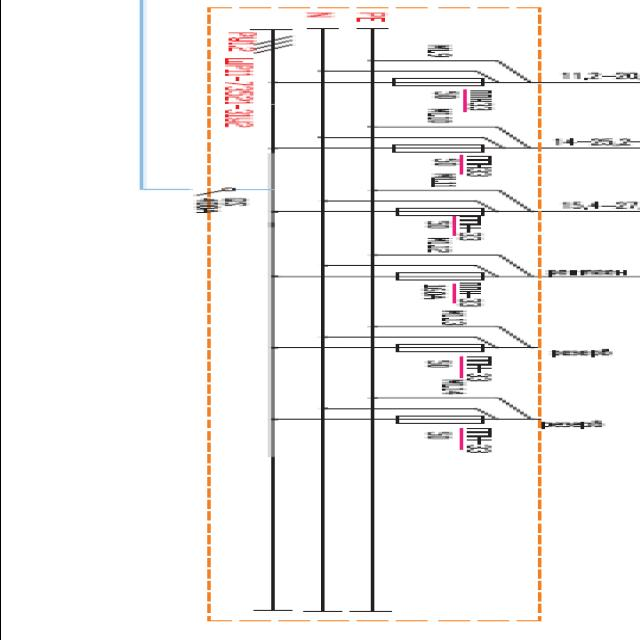-: (217, 55, 263, 130), (418, 88, 496, 116), (416, 426, 494, 454), (416, 354, 494, 382), (411, 213, 489, 241), (412, 280, 490, 308), (422, 154, 499, 182), (188, 196, 224, 216)
FU: (391, 142, 491, 154), (389, 342, 489, 354), (389, 414, 489, 426), (389, 270, 489, 282), (389, 207, 489, 219), (389, 76, 489, 88)
QS: (176, 185, 240, 197)
